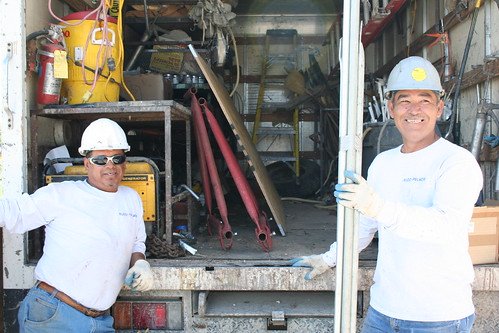person hardhat: (310, 52, 479, 333), (3, 118, 148, 333)
